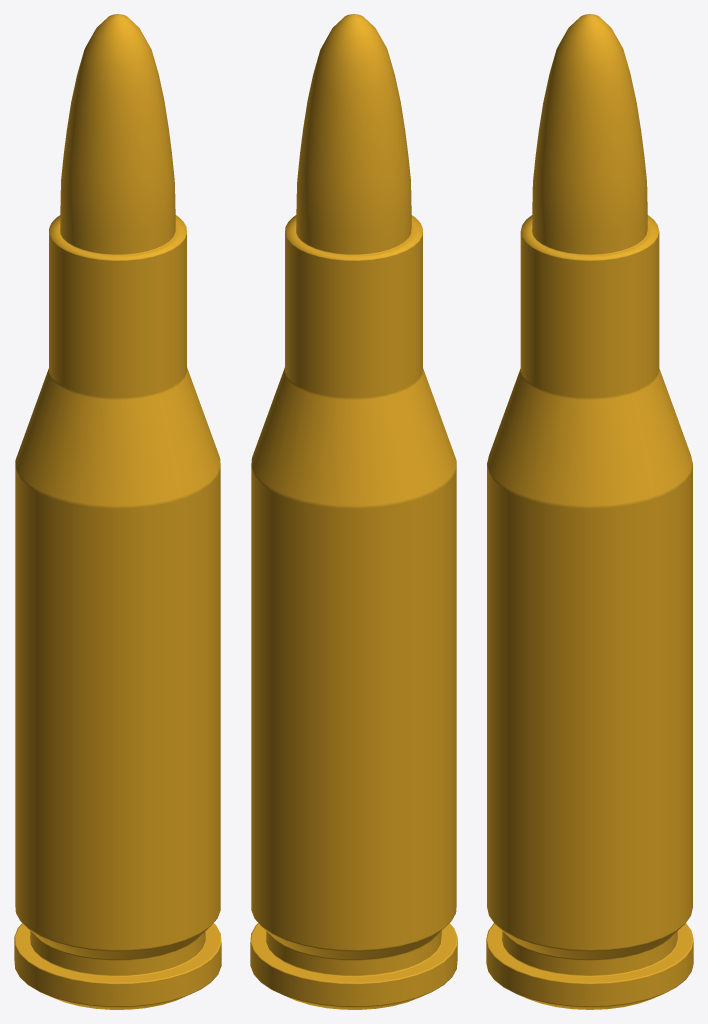
The picture shows the model from 3 angles, left to right: view 1: azimuth 30°, elevation 25°; view 2: azimuth 150°, elevation 25°; view 3: azimuth 270°, elevation 25°; orthographic projection.
Parts seen in each view (by area): view 1: Circle; view 2: Circle; view 3: Circle.
Part boxes in pixels (left/top/right/bottom): Circle: left=14, top=14, right=221, bottom=1009; Circle: left=250, top=14, right=457, bottom=1009; Circle: left=486, top=14, right=693, bottom=1009.
Bounding box in the file's own units: 0.8263 × 4.21 × 0.8263.
